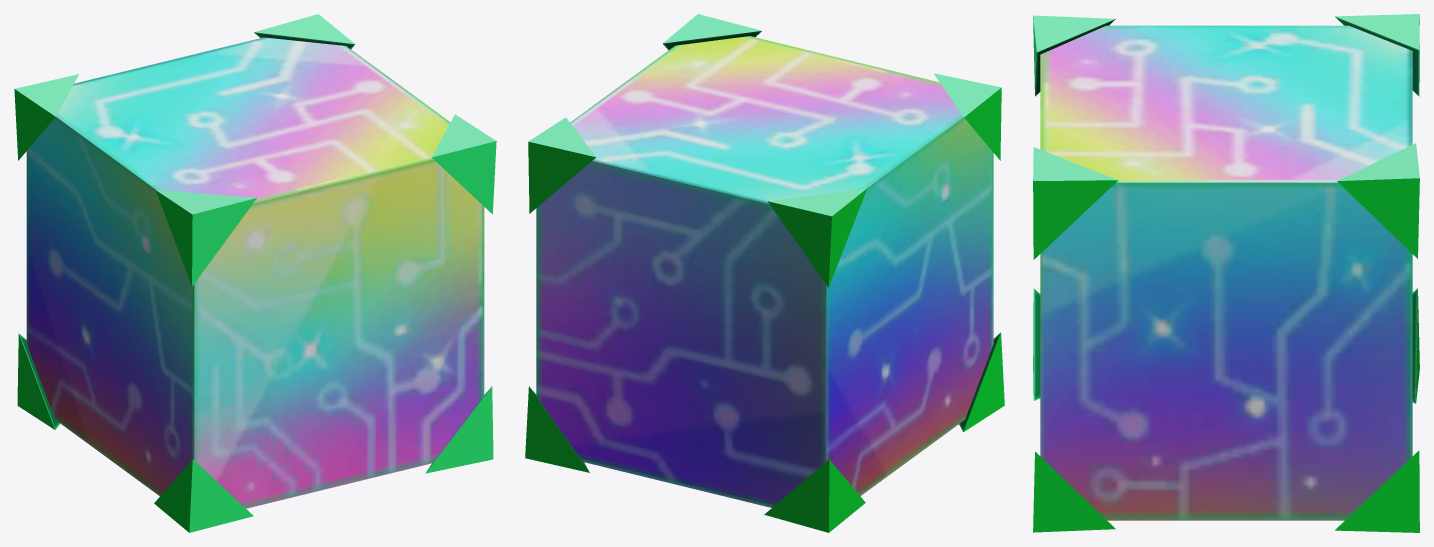
Rendered from dropitem_rainbow.fbx.
3 views of the same model, side by side, from view 1: azimuth 30°, elevation 25°; view 2: azimuth 150°, elevation 25°; view 3: azimuth 270°, elevation 25° (orthographic). The views are drawn at different scales.
Visible parts, largest first — view 1: dropitem; view 2: dropitem; view 3: dropitem.
Part boxes in pixels (bbox=[...]): dropitem: bbox=[14, 14, 496, 532]; dropitem: bbox=[525, 14, 1004, 532]; dropitem: bbox=[1033, 14, 1419, 532].
Bounding box in the file's own units: 0.6729 × 0.6642 × 0.6582.
Materials: 1 (1 with a texture image).
